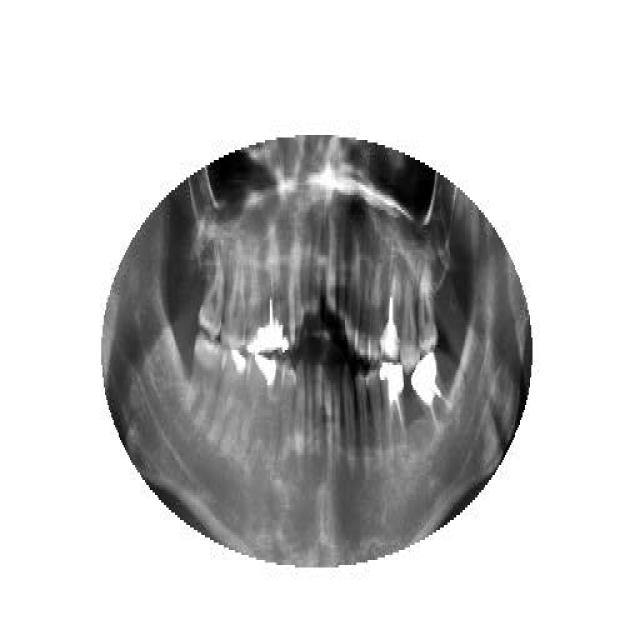Fillings: (235, 350, 276, 472), (208, 350, 252, 452), (246, 250, 260, 355)
Implant: (410, 350, 464, 440), (378, 362, 408, 458), (260, 252, 285, 350), (382, 263, 400, 365)
